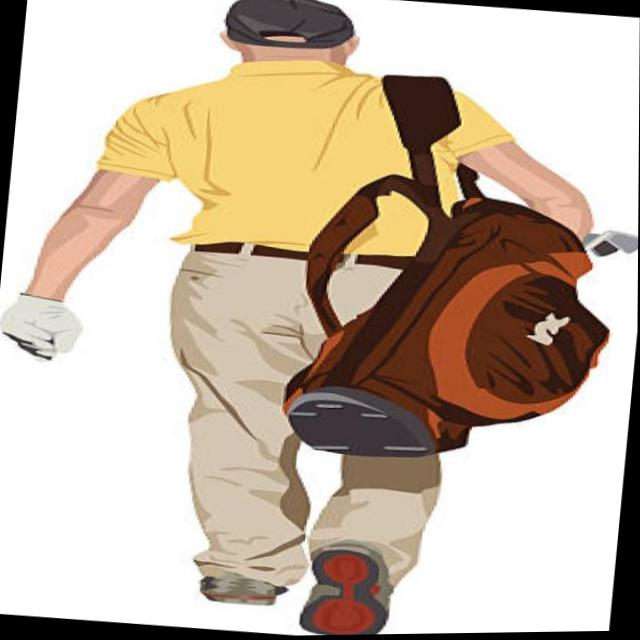no helmet: (160, 0, 422, 82)
